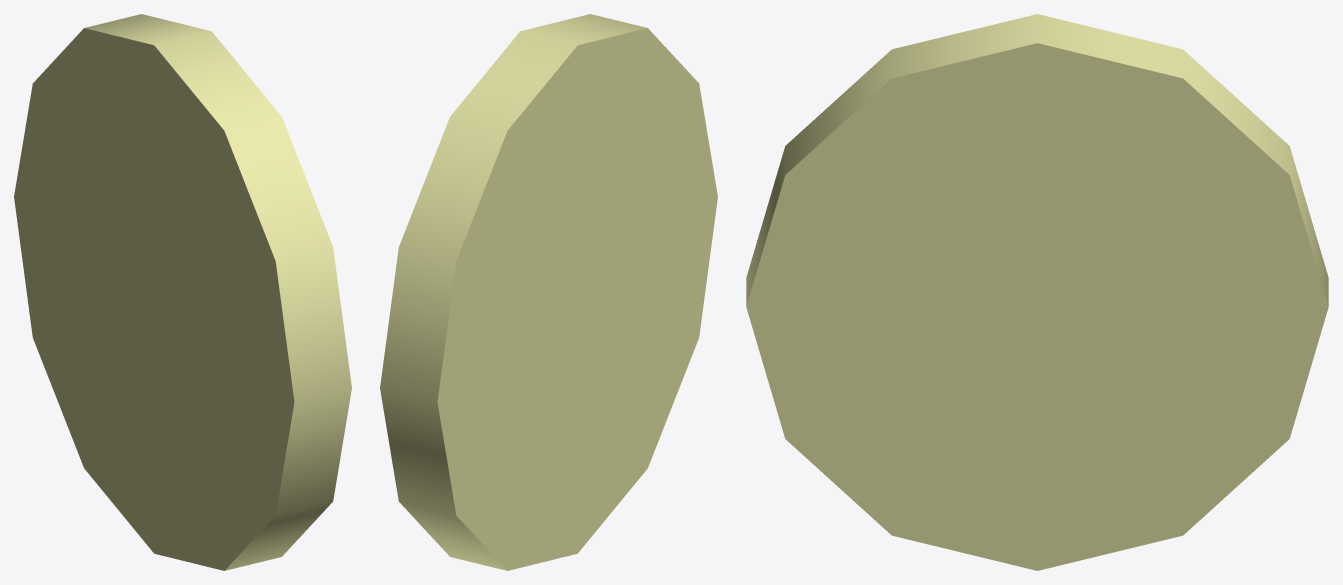
The model's file is coin.fbx.
The picture shows the model from 3 angles, left to right: view 1: azimuth 30°, elevation 25°; view 2: azimuth 150°, elevation 25°; view 3: azimuth 270°, elevation 25°; orthographic projection. The views are drawn at different scales.
Parts seen in each view (by area): view 1: pCylinder4; view 2: pCylinder4; view 3: pCylinder4.
Boxes of the visible parts, x1=… form: pCylinder4: x1=14, y1=14, x2=351, y2=570; pCylinder4: x1=380, y1=14, x2=717, y2=570; pCylinder4: x1=746, y1=14, x2=1328, y2=570.
Size of the model in its own units: 0.0581 by 0.4908 by 0.4908.
